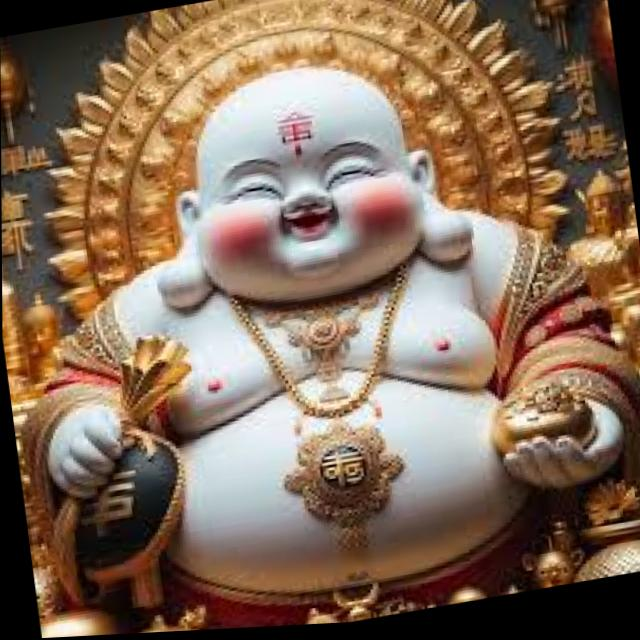Smiling Buddha: (77, 34, 528, 620)
